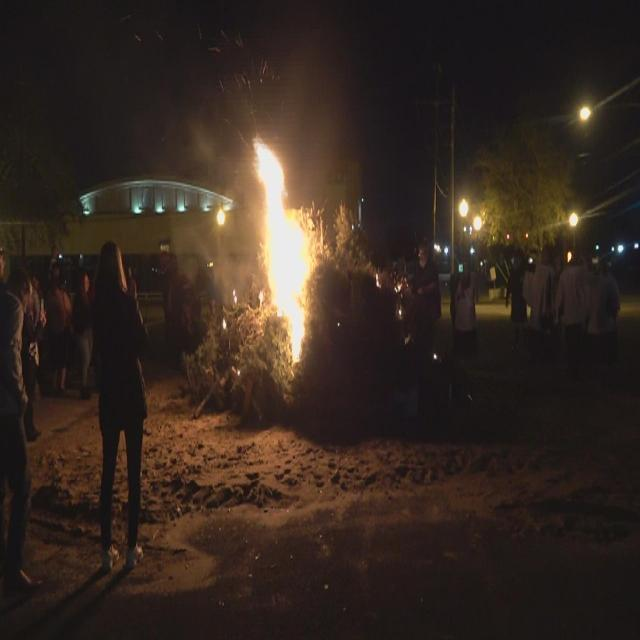Fire: (249, 134, 311, 364)
Smoke: (194, 132, 249, 236), (198, 235, 248, 309)
